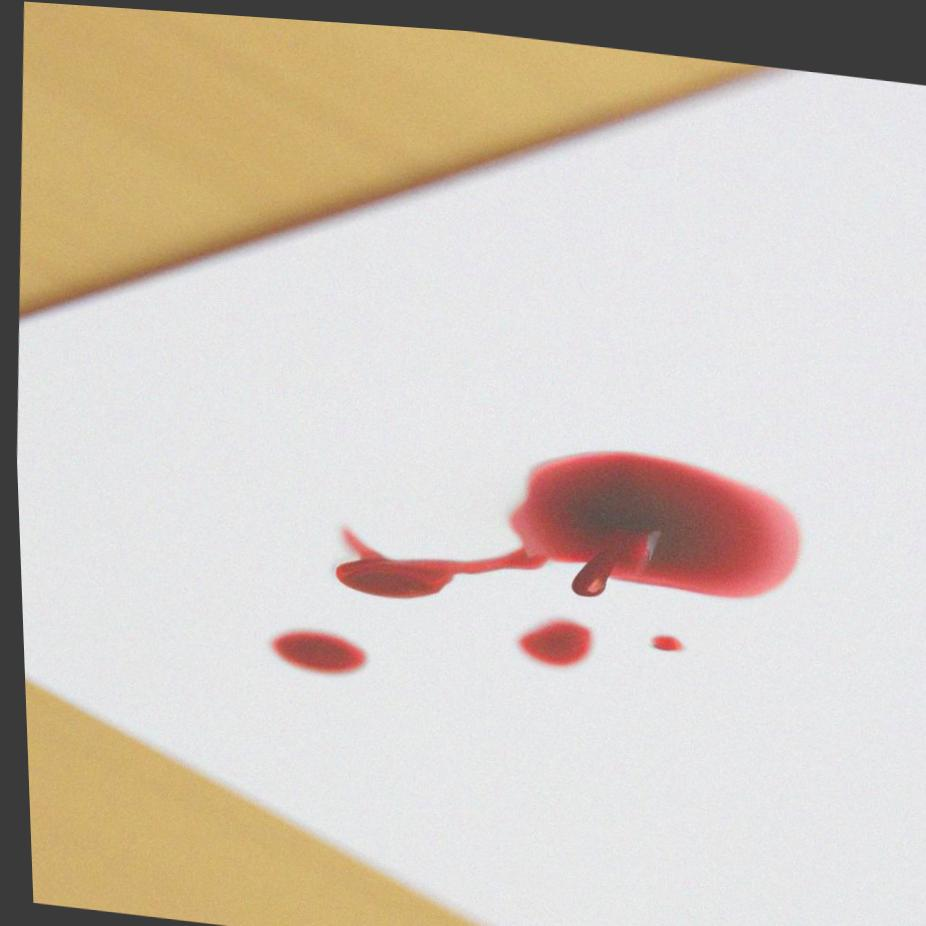Fire: (329, 442, 795, 593), (264, 626, 362, 671), (512, 611, 586, 660), (645, 625, 679, 643)
